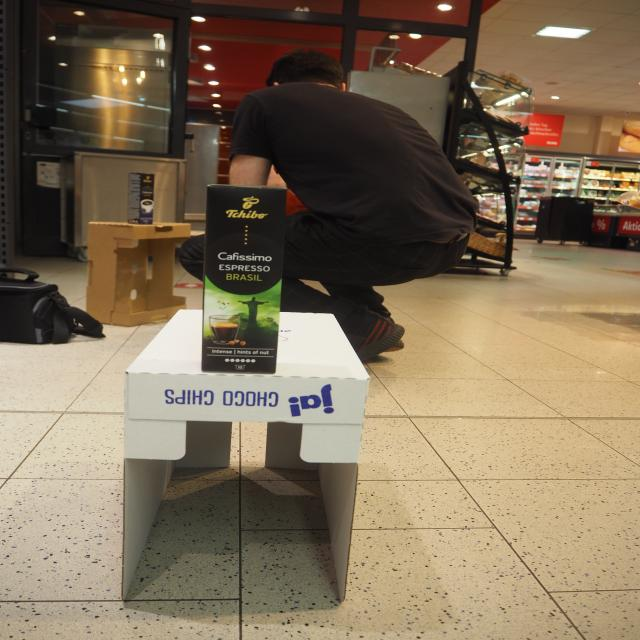Simo Es Brazil: (200, 182, 291, 375)
